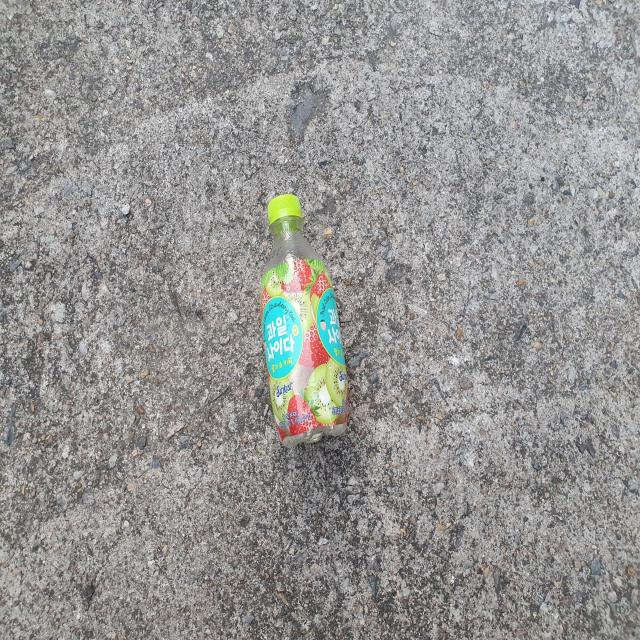plastic: (261, 194, 348, 447)
